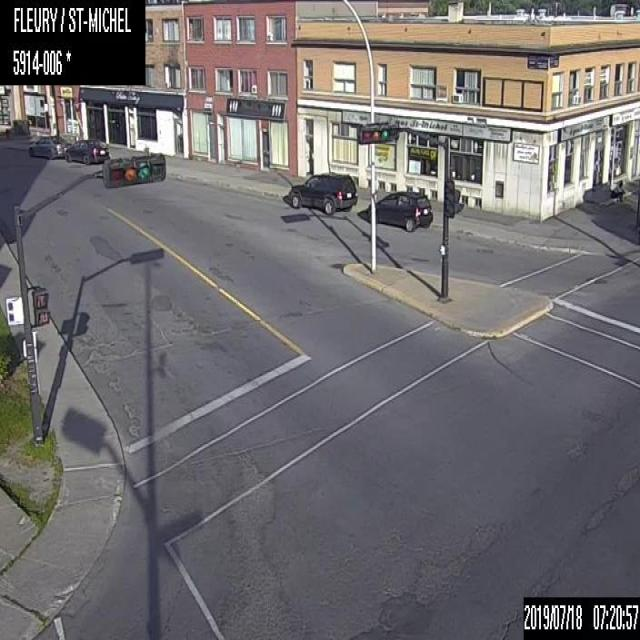vehicle: (288, 168, 358, 215), (376, 187, 433, 233), (62, 135, 109, 165), (26, 133, 68, 159)
